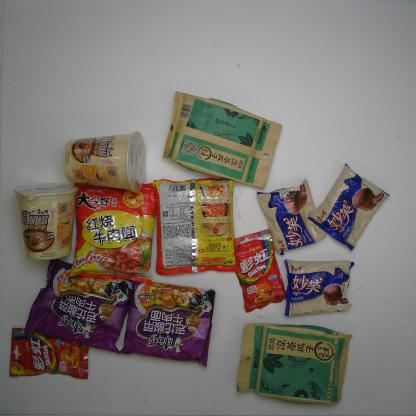Candy: (8, 326, 90, 381), (234, 227, 286, 313)
Dessert: (308, 162, 391, 250), (255, 177, 327, 256), (282, 258, 356, 317)
Dried Food: (162, 89, 284, 191), (237, 322, 353, 408)
Instant Noodles: (24, 258, 134, 354), (66, 180, 158, 283), (118, 278, 218, 369), (154, 175, 238, 277), (61, 129, 147, 194), (12, 183, 80, 262)
